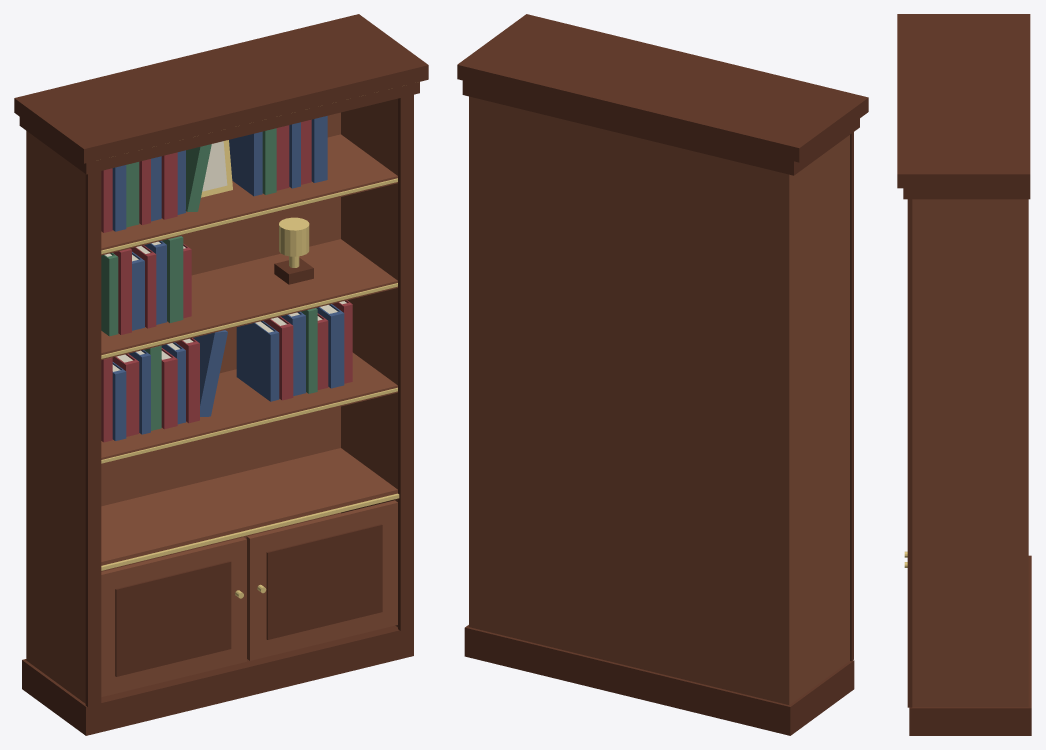
File: book_master.fbx
The picture shows the model from 3 angles, left to right: view 1: azimuth 30°, elevation 25°; view 2: azimuth 150°, elevation 25°; view 3: azimuth 270°, elevation 25°; orthographic projection. The views are drawn at different scales.
Parts seen in each view (by area): view 1: 01_DirectorBookshelf_Intact_Frame_Carcass, 01_DirectorBookshelf_Intact_Shelves_And_Doors, 01_DirectorBookshelf_Intact_Books_On_Shelves, 01_DirectorBookshelf_Intact_Decor_Trophy_And_Frames; view 2: 01_DirectorBookshelf_Intact_Frame_Carcass; view 3: 01_DirectorBookshelf_Intact_Frame_Carcass.
Boxes of the visible parts, left/top/right/bottom form: 01_DirectorBookshelf_Intact_Frame_Carcass: left=14, top=14, right=428, bottom=735; 01_DirectorBookshelf_Intact_Shelves_And_Doors: left=101, top=134, right=399, bottom=696; 01_DirectorBookshelf_Intact_Books_On_Shelves: left=101, top=116, right=352, bottom=442; 01_DirectorBookshelf_Intact_Decor_Trophy_And_Frames: left=201, top=140, right=313, bottom=284; 01_DirectorBookshelf_Intact_Frame_Carcass: left=457, top=14, right=868, bottom=735; 01_DirectorBookshelf_Intact_Frame_Carcass: left=897, top=14, right=1031, bottom=735.
Size of the model in its own units: 124 by 204 by 43.95.
